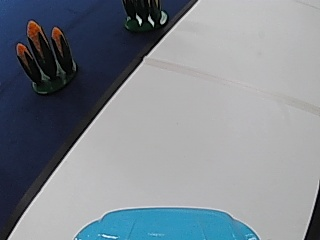corn: (16, 19, 78, 92), (123, 0, 167, 31)
